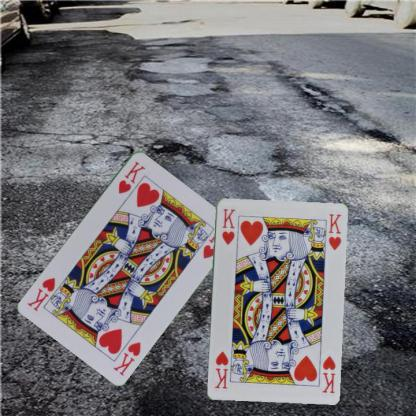Kh: (110, 338, 142, 376), (115, 158, 146, 195), (319, 352, 337, 394), (219, 206, 236, 246)
